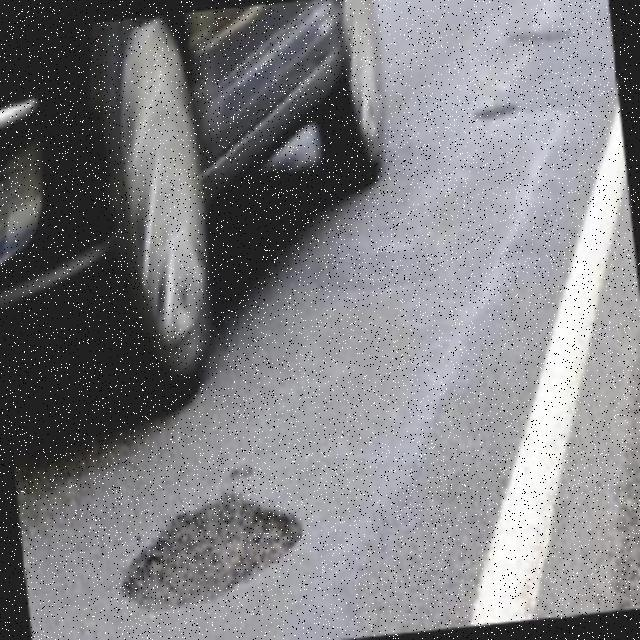Pothole: (118, 494, 302, 615)
